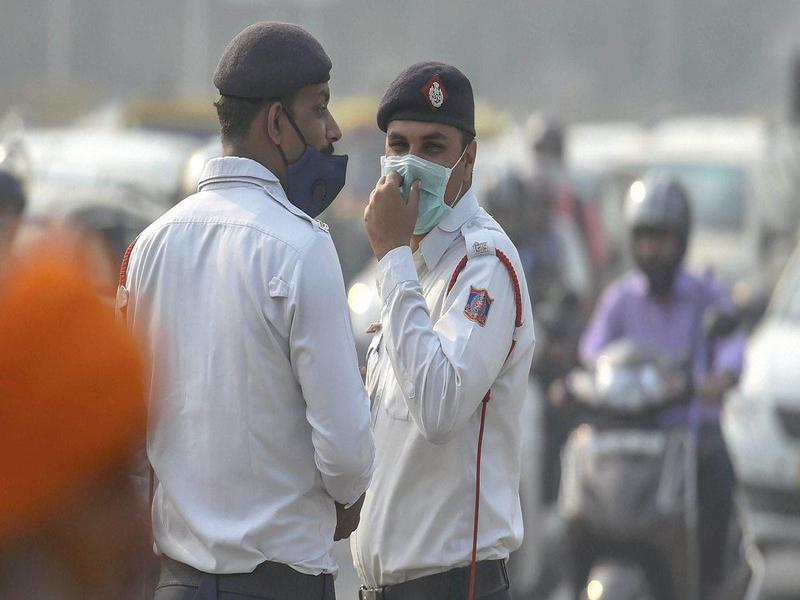with_mask: (216, 82, 345, 215), (370, 117, 476, 240)
